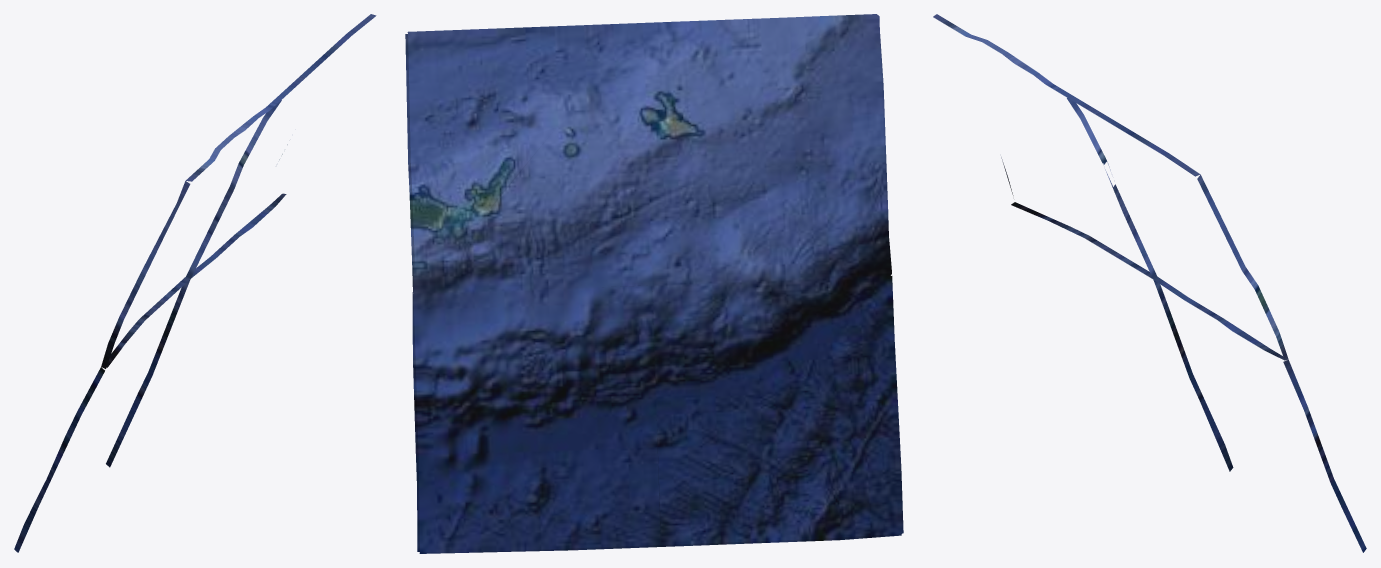
3 renders of one model, left to right at view 1: azimuth 30°, elevation 25°; view 2: azimuth 150°, elevation 25°; view 3: azimuth 270°, elevation 25°, orthographic. The views are drawn at different scales.
Size of the model in its own units: 308439 by 291400 by 268259.
1 material, 1 textured.
